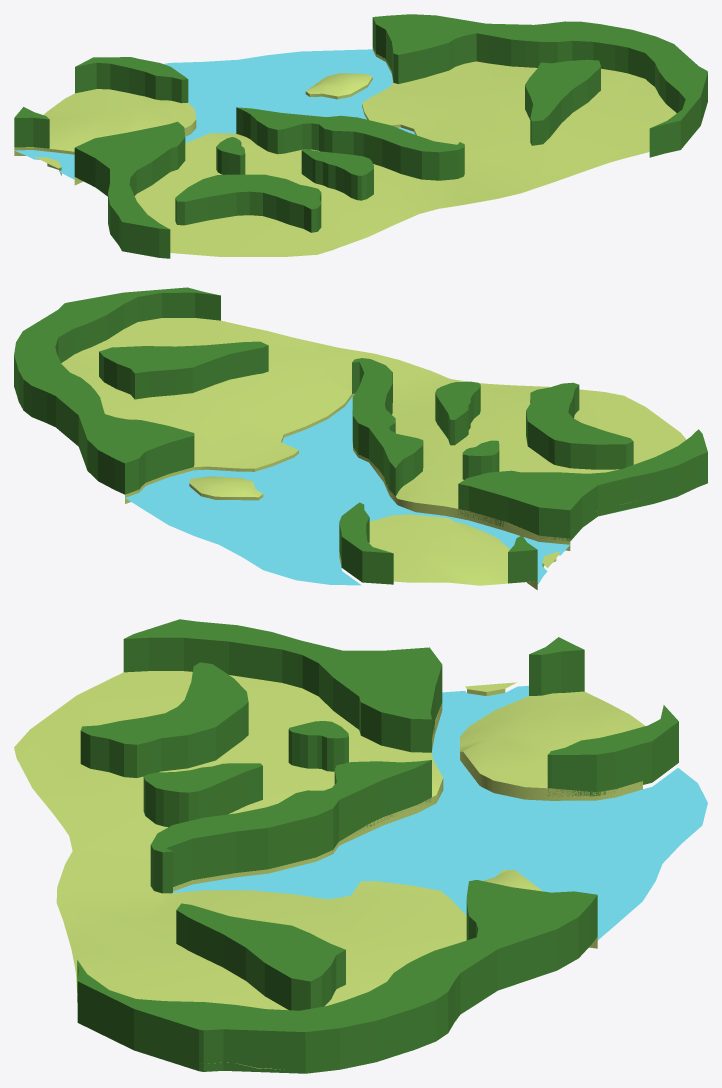
The model's file is enviBlocked_v08.fbx.
3 renders of one model, top to bottom at view 1: azimuth 30°, elevation 25°; view 2: azimuth 150°, elevation 25°; view 3: azimuth 270°, elevation 25°, orthographic. The views are drawn at different scales.
Parts seen in each view (by area): view 1: block.001, ground, water.003; view 2: block.001, ground, water.003; view 3: block.001, ground, water.003.
Boxes of the visible parts, x1,y1,x2,y2 form: block.001: (14, 14, 707, 258); ground: (14, 47, 676, 256); water.003: (14, 49, 415, 179); block.001: (14, 287, 707, 584); ground: (35, 318, 686, 589); water.003: (125, 397, 569, 585); block.001: (77, 619, 678, 1073); ground: (14, 671, 645, 1069); water.003: (173, 685, 707, 940).
Size of the model in its own units: 10653 by 650 by 7566.
